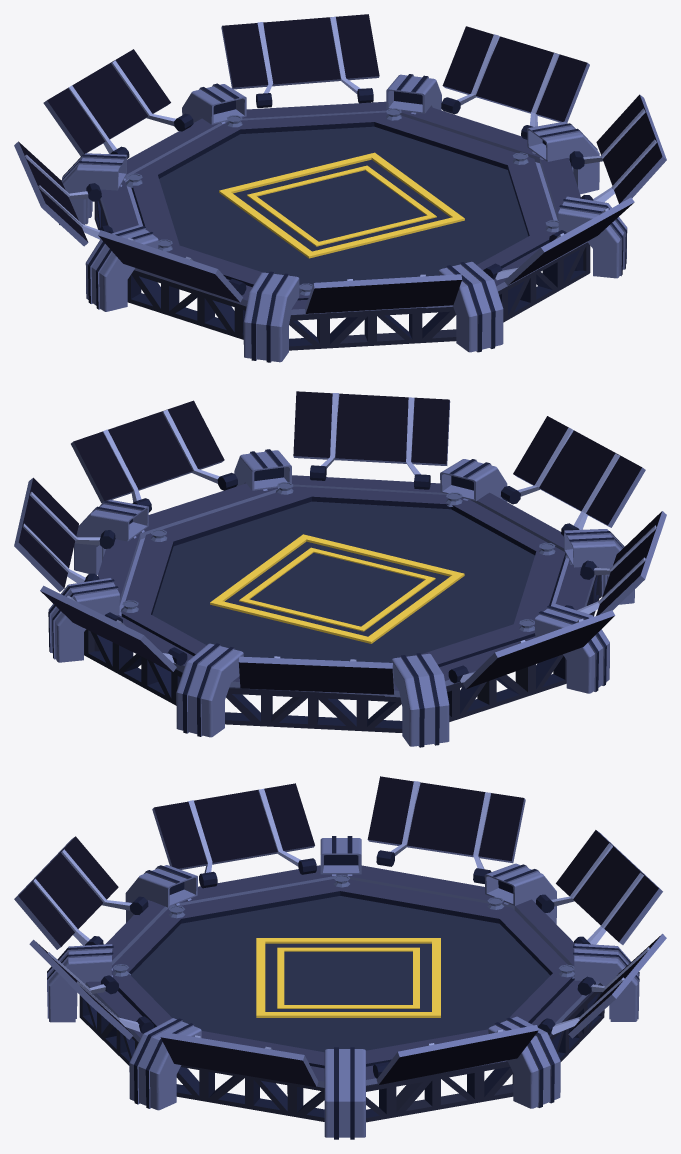
Rendered from platform.glb.
3 renders of one model, top to bottom at view 1: azimuth 30°, elevation 25°; view 2: azimuth 150°, elevation 25°; view 3: azimuth 270°, elevation 25°, orthographic. The views are drawn at different scales.
Parts seen in each view (by area): view 1: part_1, part_6, part_8, part_0, part_7, part_4, part_3, part_5, part_2; view 2: part_1, part_6, part_8, part_0, part_7, part_4, part_3, part_5, part_2; view 3: part_1, part_6, part_8, part_0, part_7, part_4, part_3, part_5, part_2.
Part boxes in pixels (bbox=[...]): part_1: bbox=[159, 126, 528, 284]; part_6: bbox=[18, 14, 662, 313]; part_8: bbox=[14, 26, 666, 362]; part_0: bbox=[100, 101, 580, 309]; part_7: bbox=[61, 74, 626, 362]; part_4: bbox=[94, 199, 590, 350]; part_3: bbox=[219, 152, 464, 258]; part_5: bbox=[25, 16, 656, 280]; part_2: bbox=[125, 108, 558, 295]; part_1: bbox=[152, 501, 534, 662]; part_6: bbox=[18, 391, 661, 694]; part_8: bbox=[14, 400, 666, 746]; part_0: bbox=[97, 475, 596, 690]; part_7: bbox=[48, 449, 624, 747]; part_4: bbox=[84, 567, 601, 732]; part_3: bbox=[210, 534, 464, 643]; part_5: bbox=[23, 393, 656, 682]; part_2: bbox=[120, 482, 555, 631]; part_1: bbox=[130, 896, 550, 1052]; part_6: bbox=[18, 776, 661, 1086]; part_8: bbox=[14, 798, 666, 1137]; part_0: bbox=[86, 865, 595, 1081]; part_7: bbox=[47, 836, 639, 1139]; part_4: bbox=[79, 983, 604, 1122]; part_3: bbox=[256, 938, 440, 1017]; part_5: bbox=[33, 781, 649, 1049]; part_2: bbox=[112, 875, 574, 978].
Bounding box in the file's own units: 9.14 × 1.52 × 8.93.
